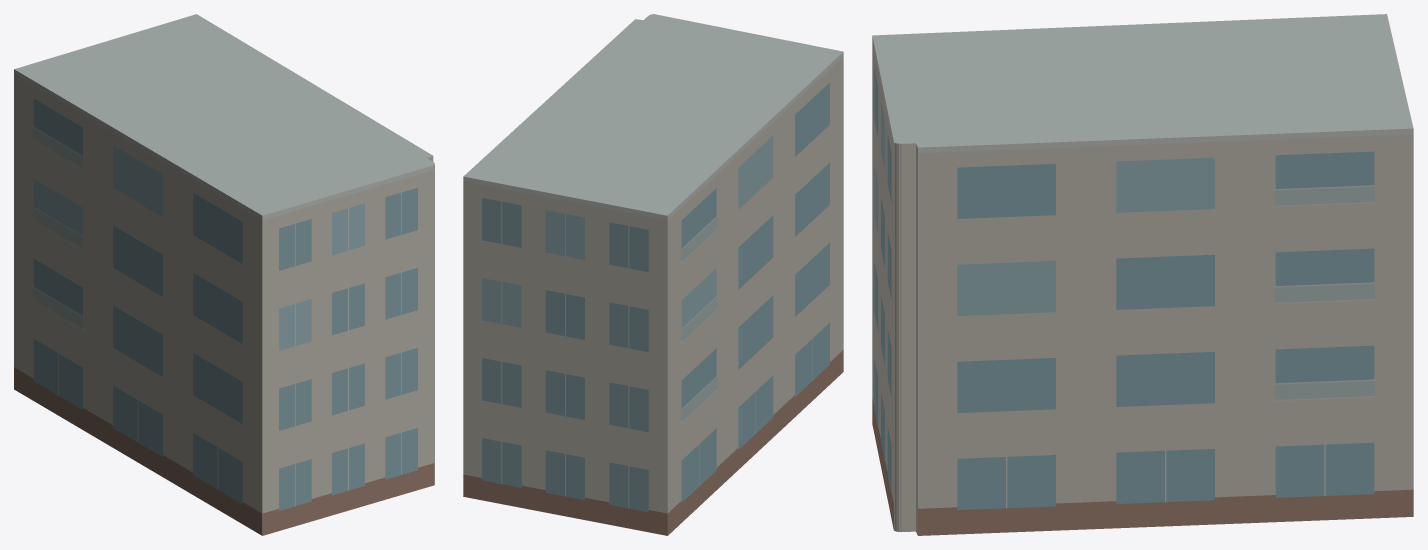
Rendered from survey-upis-32958297.glb.
3 views of the same model, side by side, from view 1: azimuth 30°, elevation 25°; view 2: azimuth 150°, elevation 25°; view 3: azimuth 270°, elevation 25° (orthographic). The views are drawn at different scales.
Visible parts, largest first — view 1: survey-upis-32958297.tmp; view 2: survey-upis-32958297.tmp; view 3: survey-upis-32958297.tmp.
Part boxes in pixels (x1,y1,x2,y2): survey-upis-32958297.tmp: [14, 14, 434, 535]; survey-upis-32958297.tmp: [463, 14, 843, 535]; survey-upis-32958297.tmp: [872, 14, 1413, 535].
Bounding box in the file's own units: 12.11 × 16.4 × 20.73.
